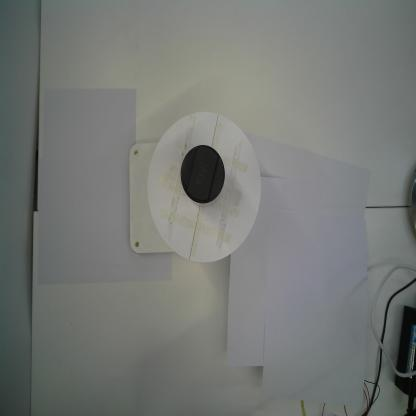Canned Food: (180, 144, 226, 208)
